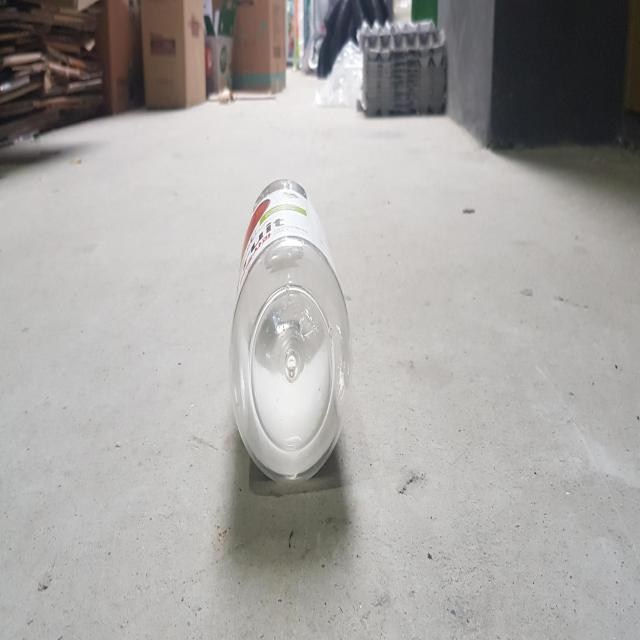plastic: (229, 178, 352, 481)
